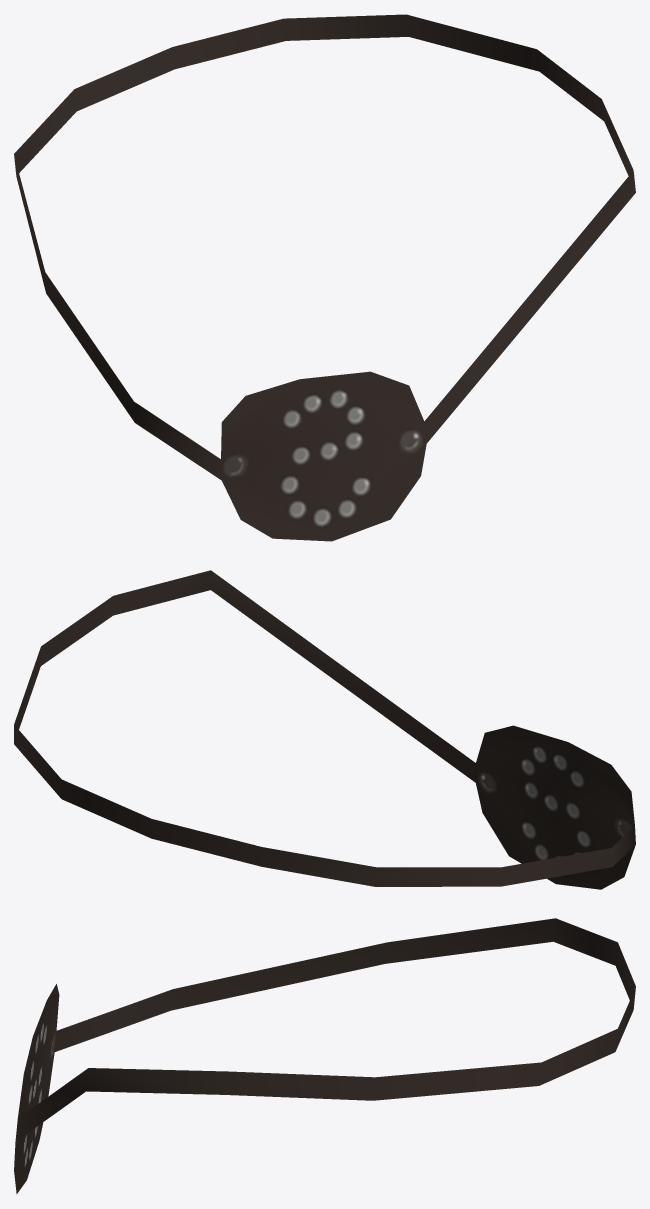
File: top_acc_23.FBX
3 renders of one model, top to bottom at view 1: azimuth 30°, elevation 25°; view 2: azimuth 150°, elevation 25°; view 3: azimuth 270°, elevation 25°, orthographic. The views are drawn at different scales.
Parts seen in each view (by area): view 1: top_acc_23; view 2: top_acc_23; view 3: top_acc_23.
Boxes of the visible parts, left/top/right/bottom form: top_acc_23: left=14, top=14, right=635, bottom=541; top_acc_23: left=14, top=570, right=635, bottom=889; top_acc_23: left=14, top=918, right=635, bottom=1194.
Bounding box in the file's own units: 26.09 × 14.06 × 26.81.
